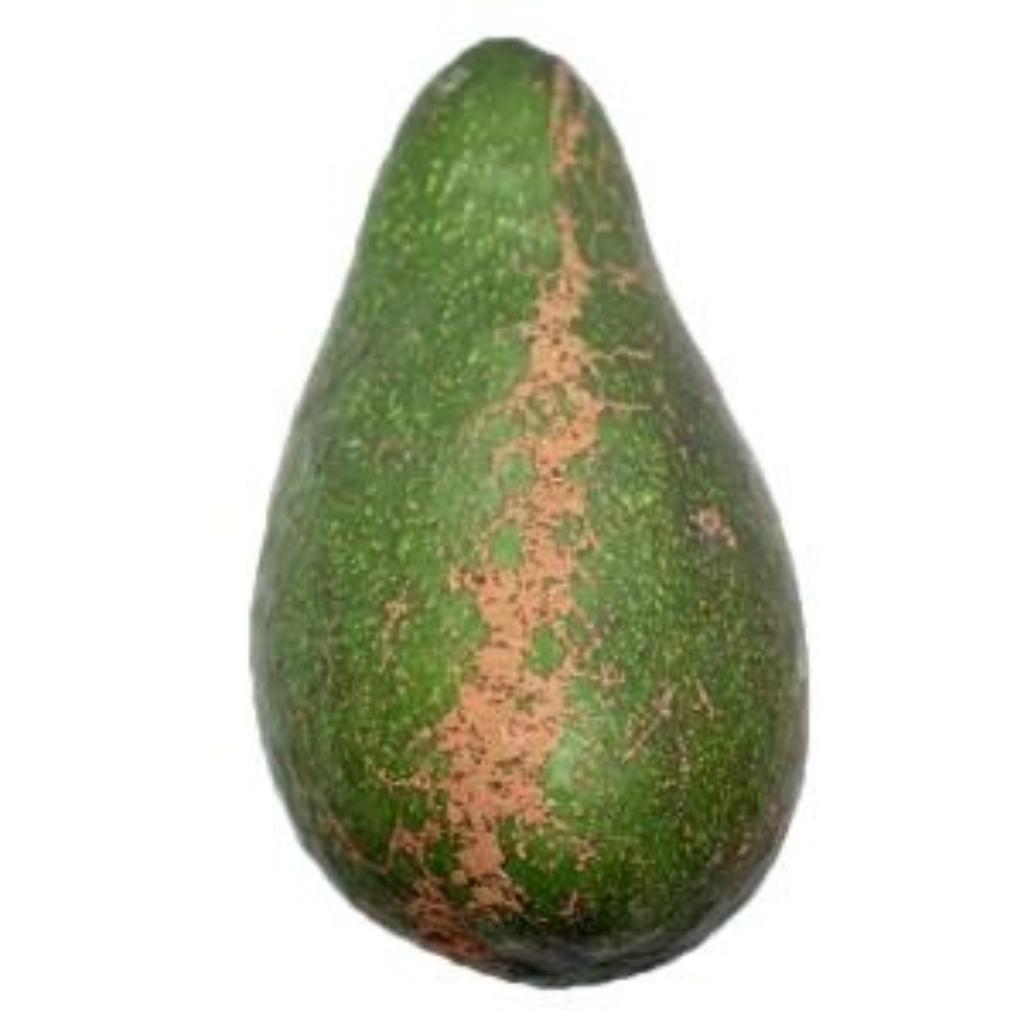cercospora: (244, 37, 834, 987)
